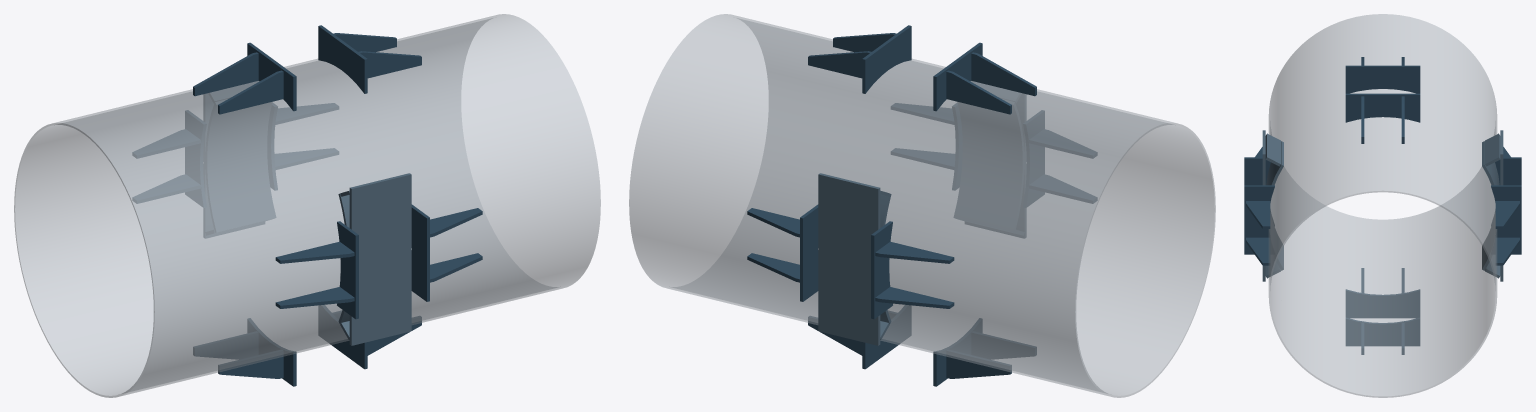
Rendered from TS-668.00.00-21-opora-dn1220-ris2.glb.
3 renders of one model, left to right at view 1: azimuth 30°, elevation 25°; view 2: azimuth 150°, elevation 25°; view 3: azimuth 270°, elevation 25°, orthographic. The views are drawn at different scales.
Parts seen in each view (by area): view 1: truba, bok_26, bok_29, upor_1, upor_7, upor_10, upor_6, upor_5, upor_17, upor_13, upor_22, upor_18 (+14 smaller); view 2: truba, bok_30, bok_25, upor_1, upor_19, upor_22, upor_5, upor_6, upor_18, upor_13, upor_10, upor_17 (+14 smaller); view 3: truba, upor_16, upor_4, upor_1, upor_13, upor_7, upor_19, bok_25, bok_29, upor_10, upor_22, upor_9 (+7 smaller).
Part boxes in pixels (x1,y1,x2,y2): truba: (14,14,600,397); bok_26: (349,173,411,345); bok_29: (205,99,275,232); upor_1: (318,25,367,93); upor_7: (411,204,429,301); upor_10: (337,221,358,319); upor_6: (218,70,283,114); upor_5: (193,52,258,96); upor_17: (218,350,283,378); upor_13: (318,305,367,369); upor_22: (185,110,206,207); upor_18: (193,331,258,359); truba: (629,14,1215,397); bok_30: (818,173,880,345); bok_25: (954,99,1024,232); upor_1: (862,25,911,93); upor_19: (800,204,818,301); upor_22: (871,221,892,319); upor_5: (946,70,1011,114); upor_6: (971,52,1036,96); upor_18: (946,350,1011,378); upor_13: (862,305,911,369); upor_10: (1023,110,1044,207); upor_17: (971,331,1036,359); truba: (1268,14,1497,397); upor_16: (1345,289,1420,318); upor_4: (1345,65,1420,93); upor_1: (1345,93,1420,122); upor_13: (1345,317,1420,346); upor_7: (1244,185,1274,254); upor_19: (1491,185,1521,254); bok_25: (1266,141,1283,270); bok_29: (1482,141,1499,270); upor_10: (1244,157,1274,225); upor_22: (1491,157,1521,225); upor_9: (1246,237,1270,265).
Bounding box in the file's own units: 2232 × 1481 × 1481.
